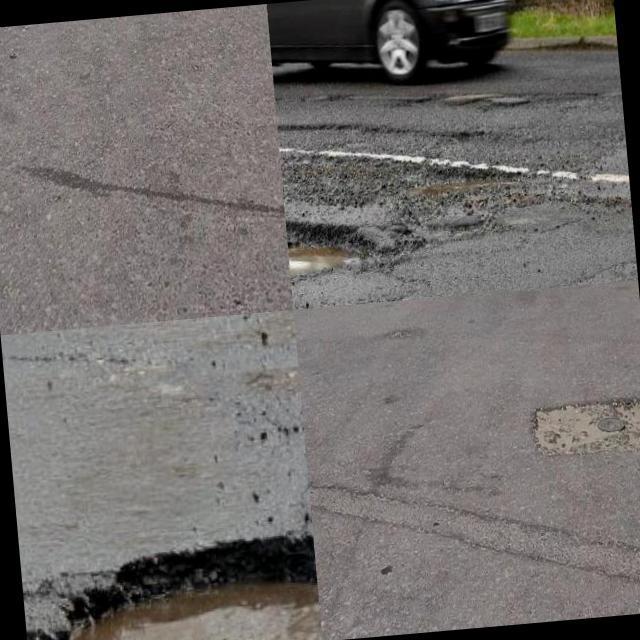Pothole: (23, 537, 322, 640), (532, 391, 640, 459), (287, 232, 373, 280)
